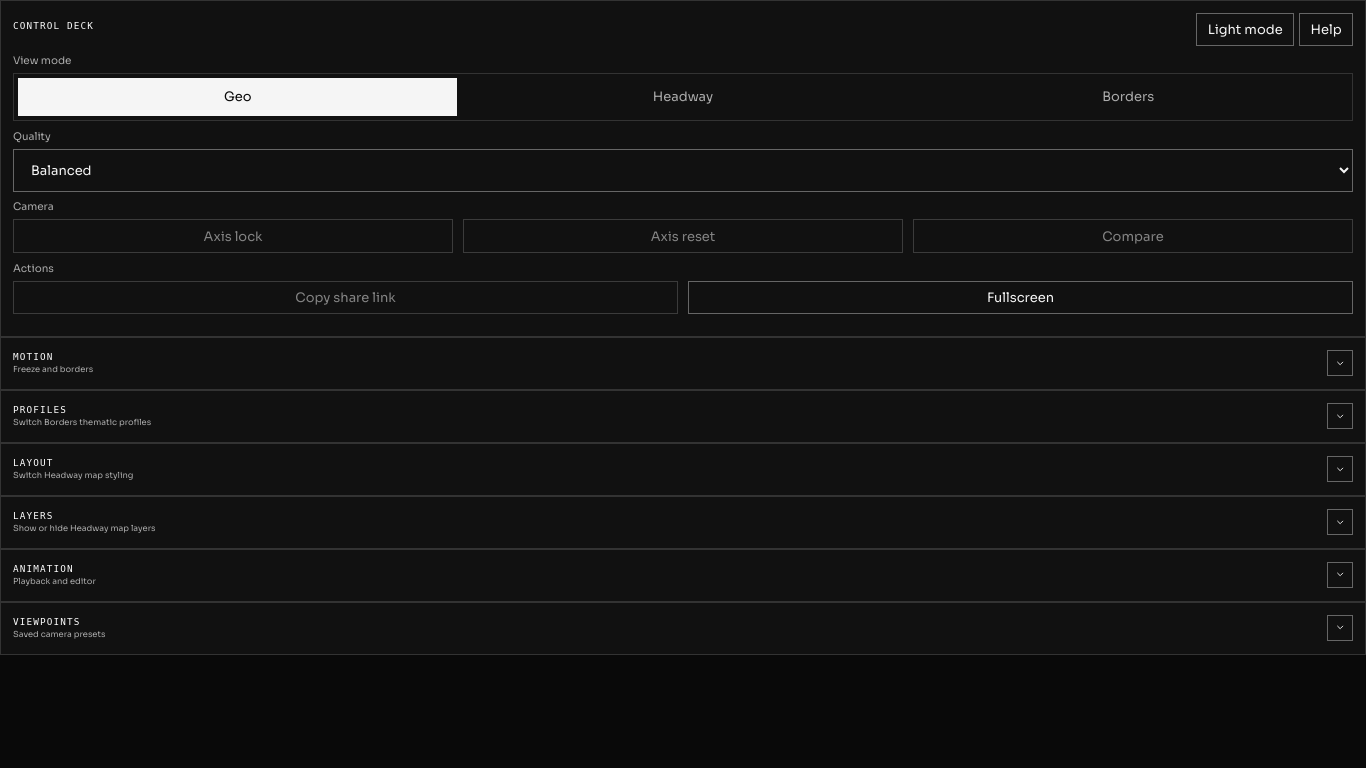
Test: ControlDock › keeps secondary controls disabled when the scene is unavailable
The width and height of the screenshot is (1366, 768).
Click the button with aria-label "toggle motion section". click: (33, 357)
box: top-left (13, 350), bottom-right (1353, 376)
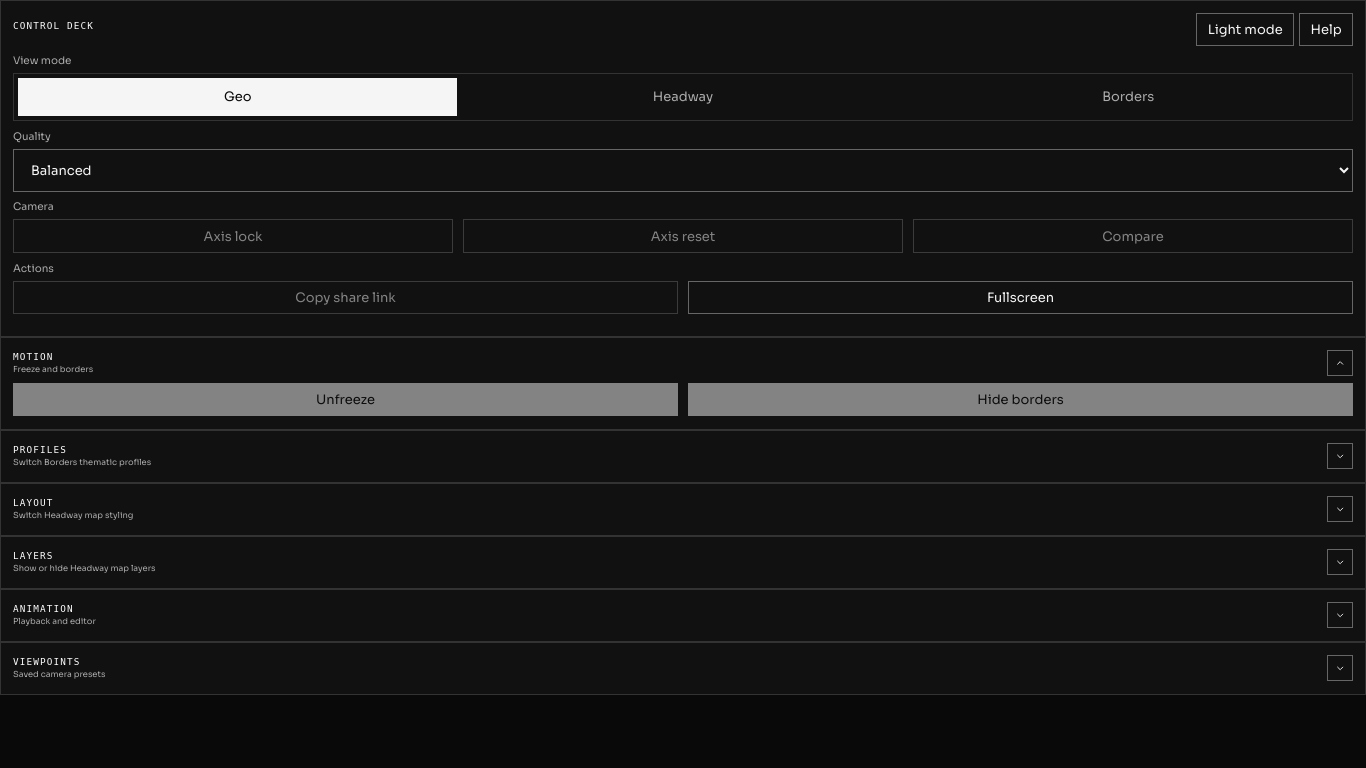
Click the button with aria-label "toggle layers section". click: (33, 556)
box: top-left (13, 549), bottom-right (1353, 575)
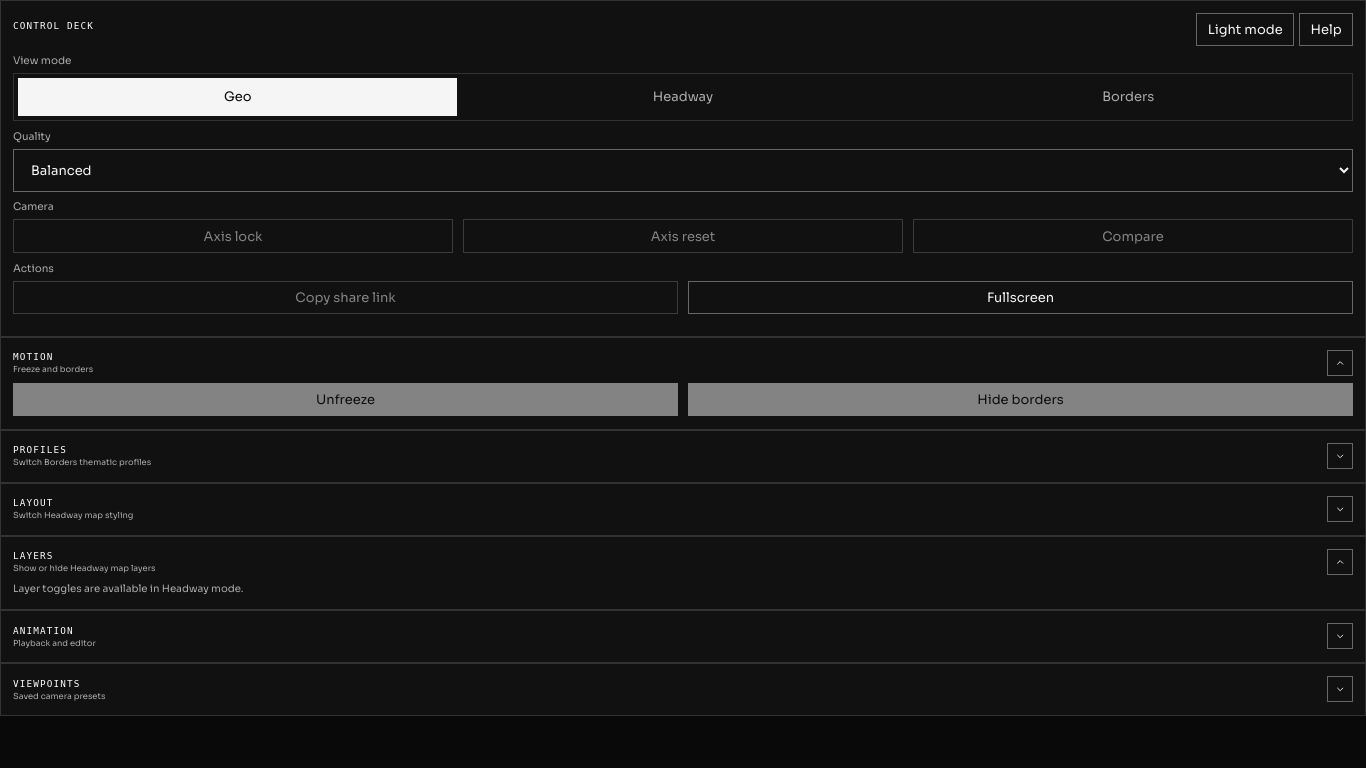
Click the button with aria-label "toggle profiles section". click: (40, 450)
box: top-left (13, 443), bottom-right (1353, 469)
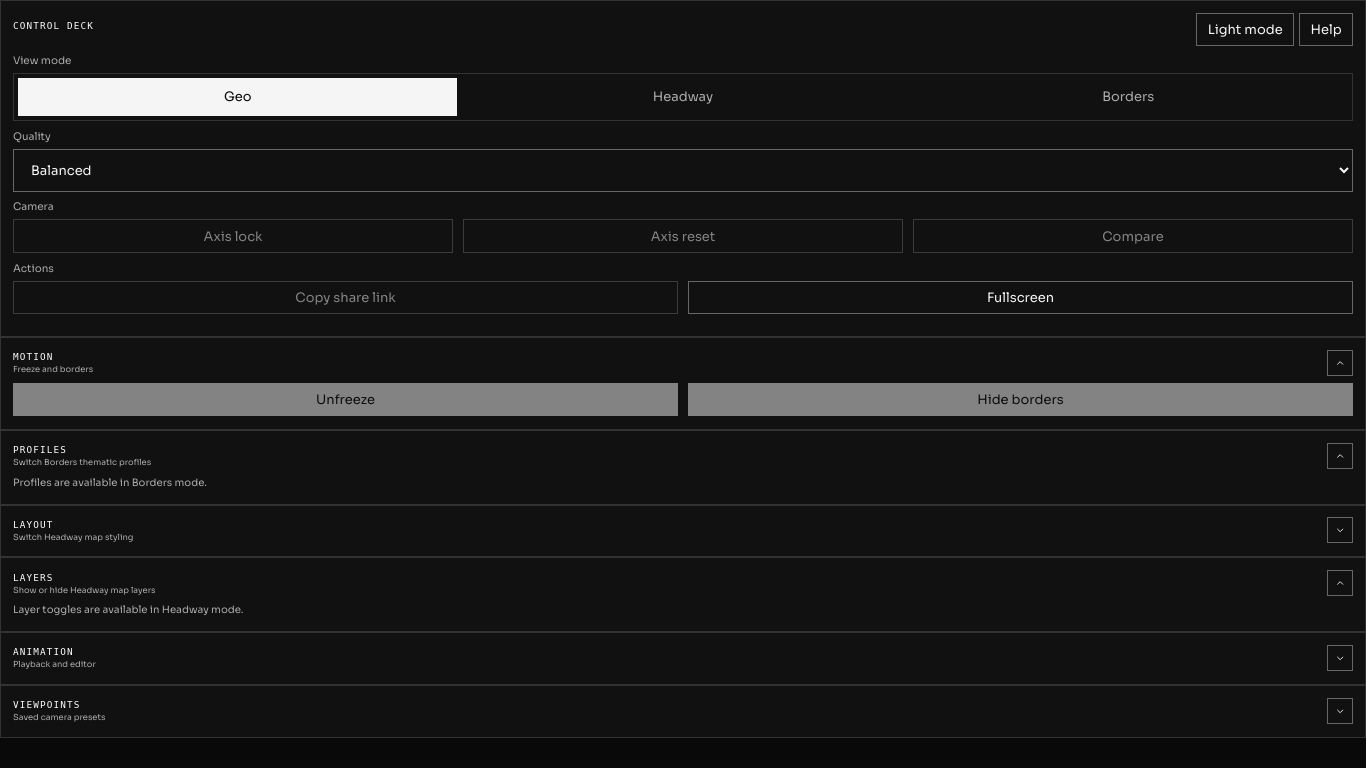
Click the button with aria-label "toggle layout section". click: (33, 524)
box: top-left (13, 518), bottom-right (1353, 544)
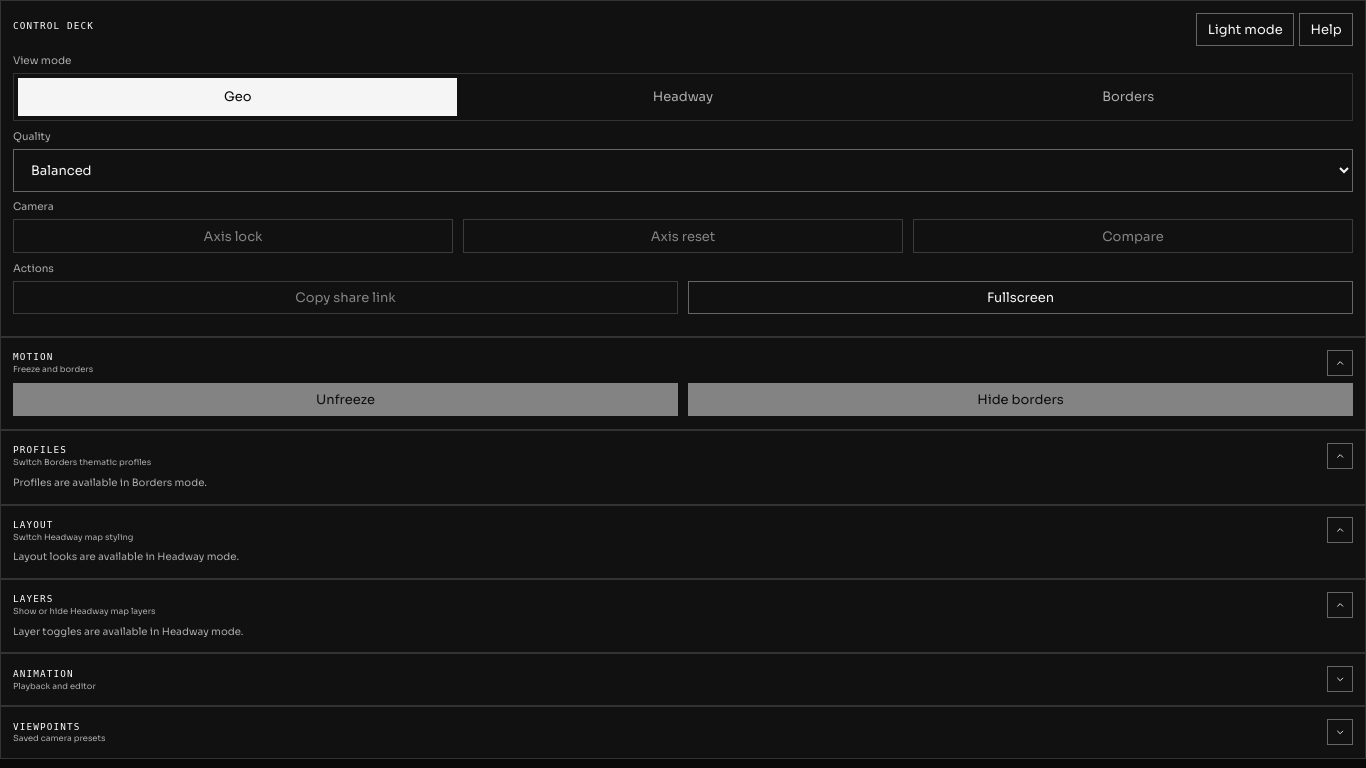
Click the button with aria-label "toggle animation section". click: (43, 673)
box: top-left (13, 666), bottom-right (1353, 692)
(page scrolled)
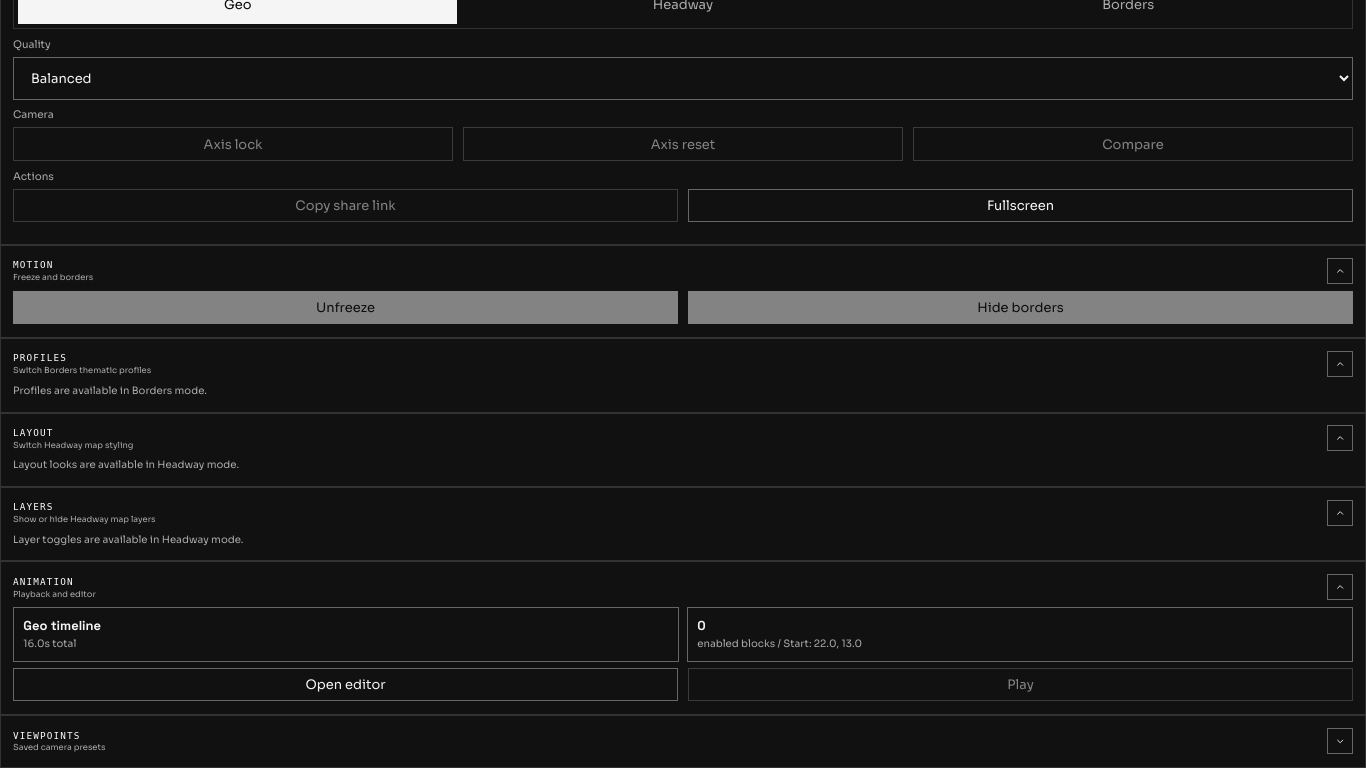
Click the button with aria-label "toggle viewpoints section". click: (47, 735)
box: top-left (13, 728), bottom-right (1353, 754)
(page scrolled)
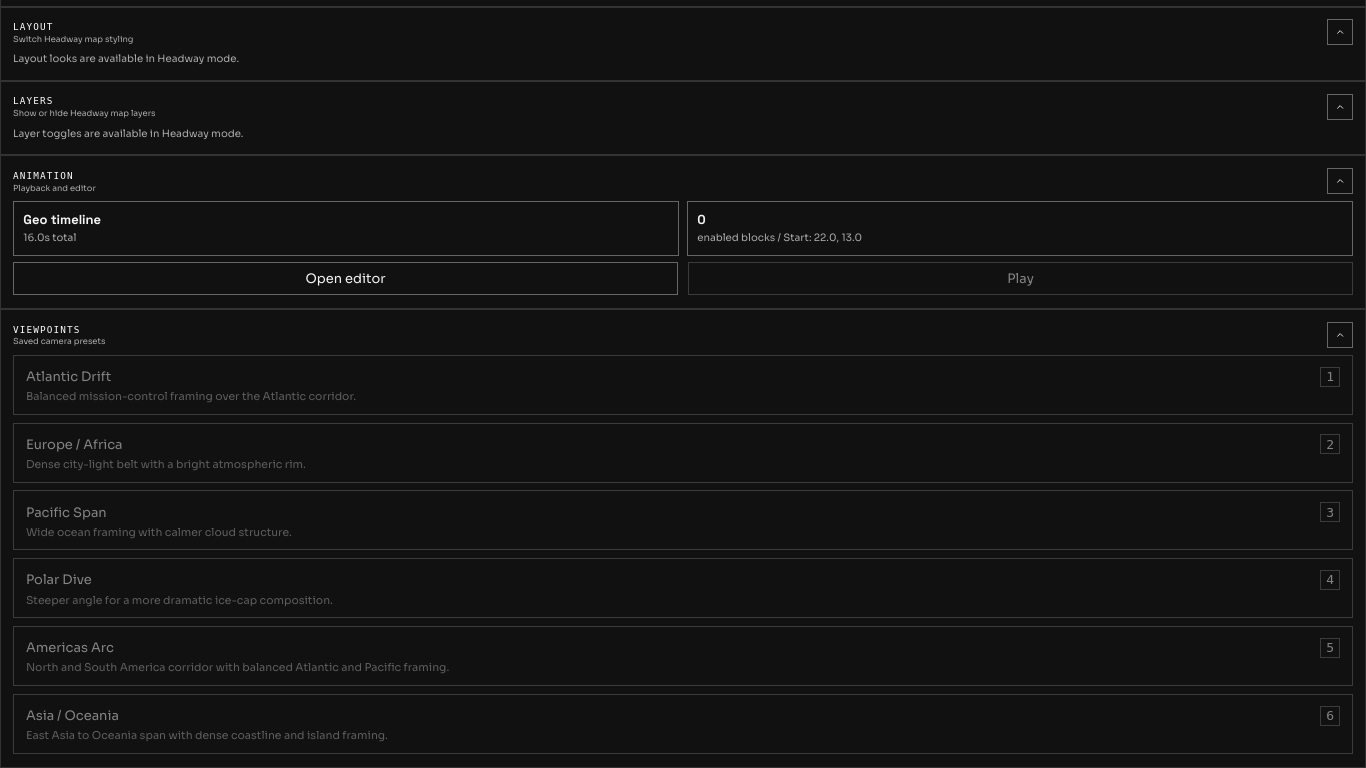
Check: the button "Open editor" is shown, box top-left (13, 262), bottom-right (678, 295)
Check: the button "Play" is disabled, box top-left (688, 262), bottom-right (1353, 295)
Check: the button "Atlantic Drift" is disabled, box top-left (13, 355), bottom-right (1353, 415)
